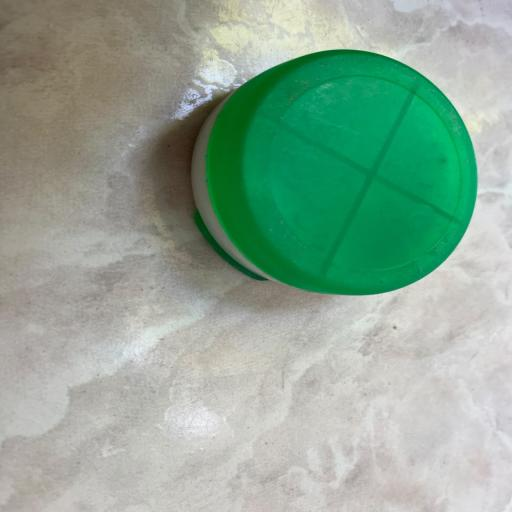HDPE: (174, 24, 496, 333)
